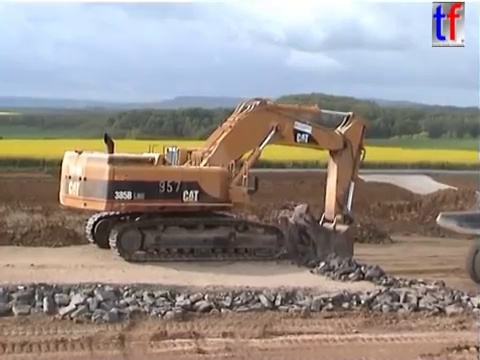excavator: (55, 95, 370, 273)
truck: (433, 208, 480, 288)
